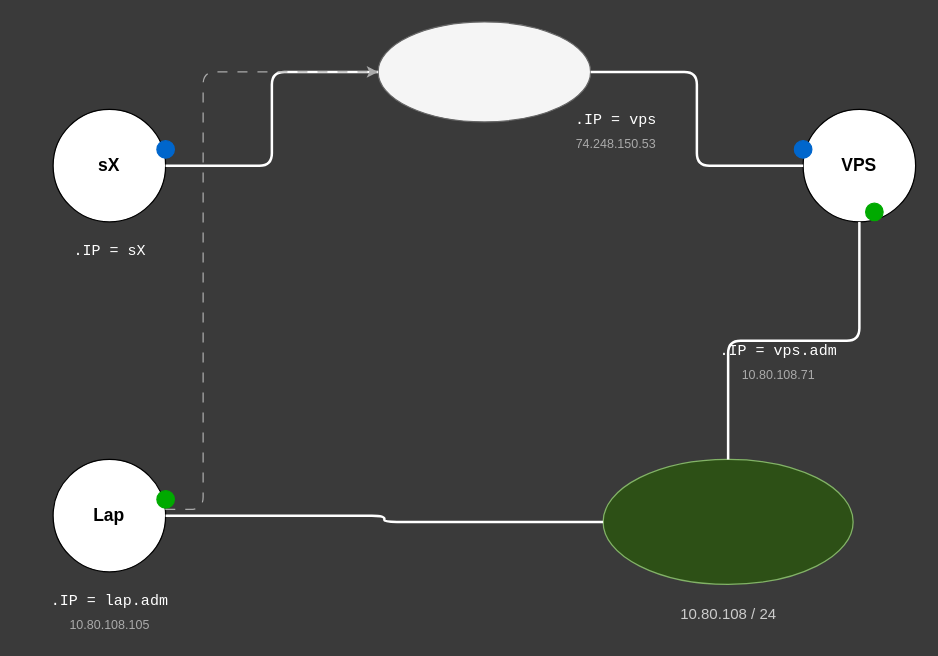
The diagram is 938 pixels wide and 656 high, and some of its shapes have lost their labels. Here are the shapes that lost their labels. From the top down, the centre of each, then its label:
At pixel 484 71: "Internet".
At pixel 727 521: "VPN/GAN Zerotier/Tailscale ADM".
